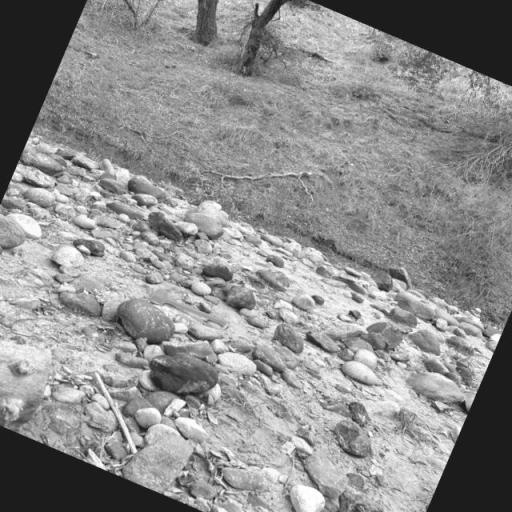mallet: (148, 286, 230, 332)
